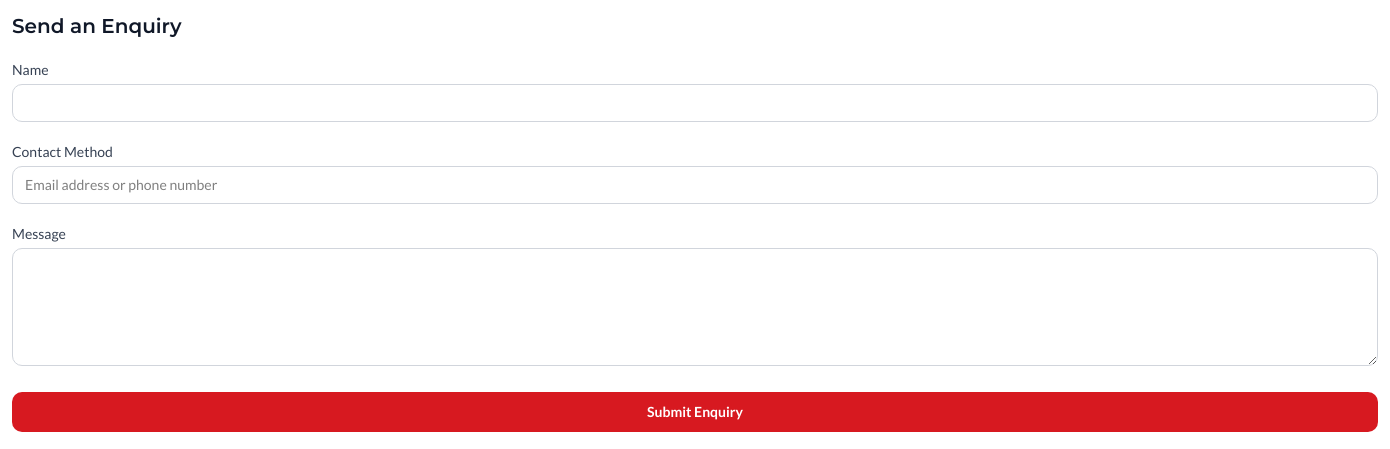
Test: EnquiryForm › should disable submit button while submitting
This screenshot has width=1390, height=449.
Type "John Doe" into the field labelled "Name" at (695, 103), box [12, 84, 1378, 122]
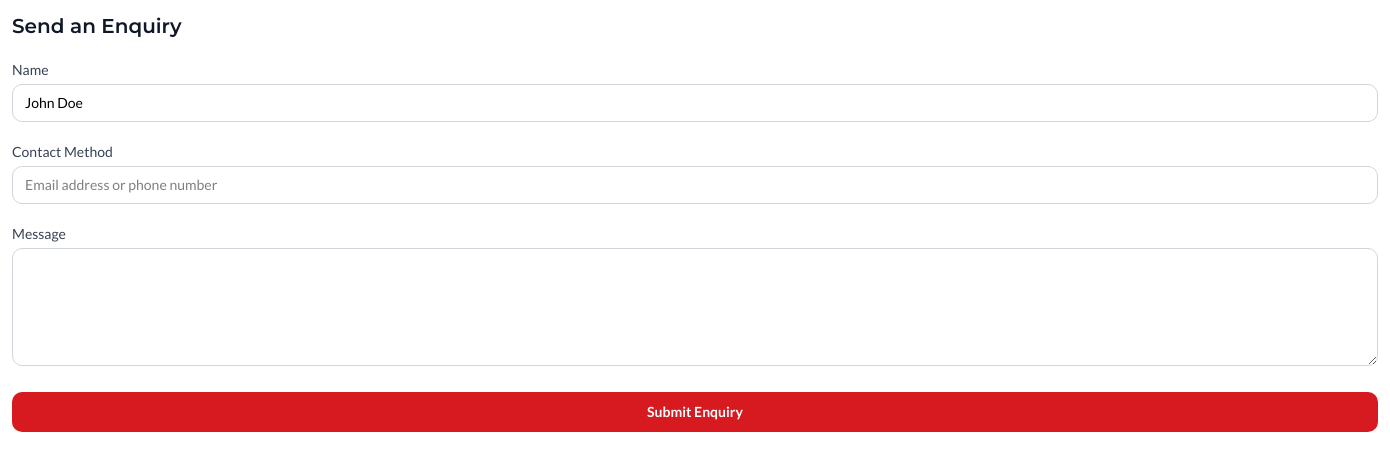
Type "john@example.com" into the field labelled "Contact Method" at (695, 185), box [12, 166, 1378, 204]
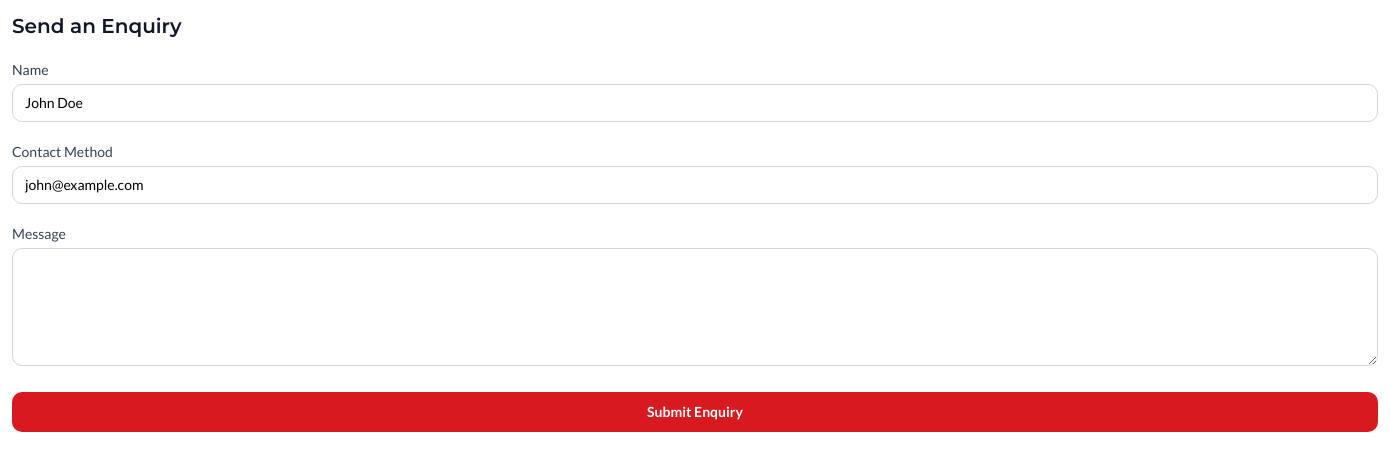
Type "Test message" into the text box labelled "Message" at (695, 307), box [12, 248, 1378, 366]
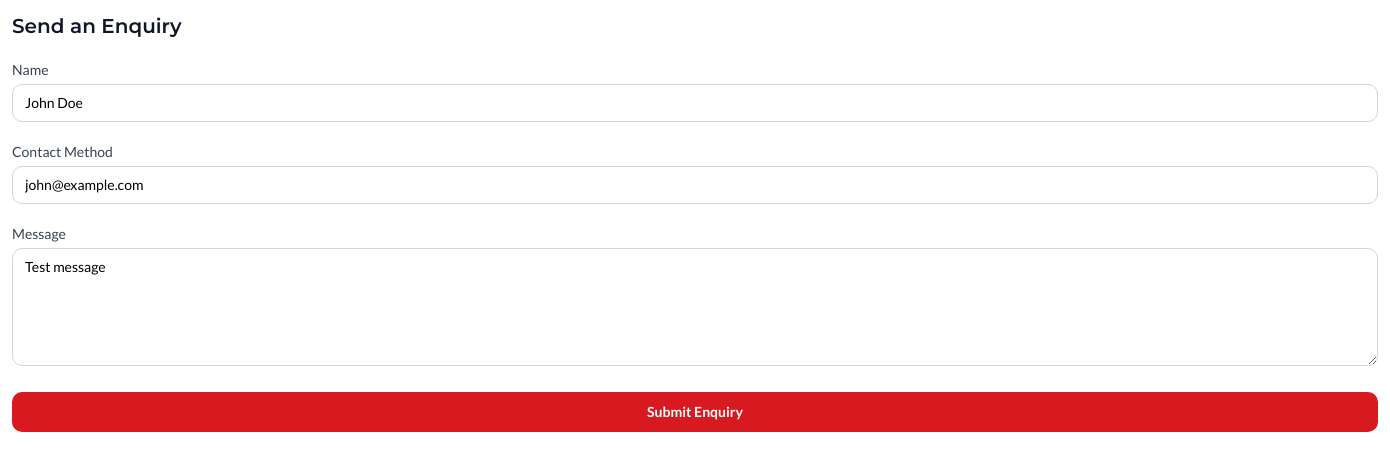
Click the button "Submit Enquiry" at (695, 412), box [12, 392, 1378, 432]
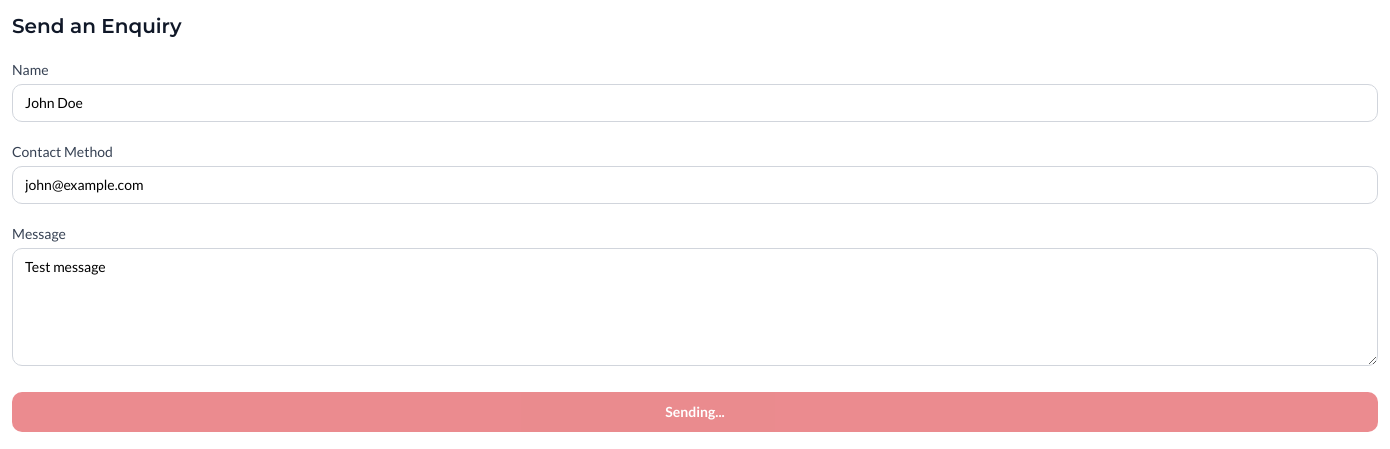
Expected: the button "Sending..." is disabled, [12, 392, 1378, 432]
